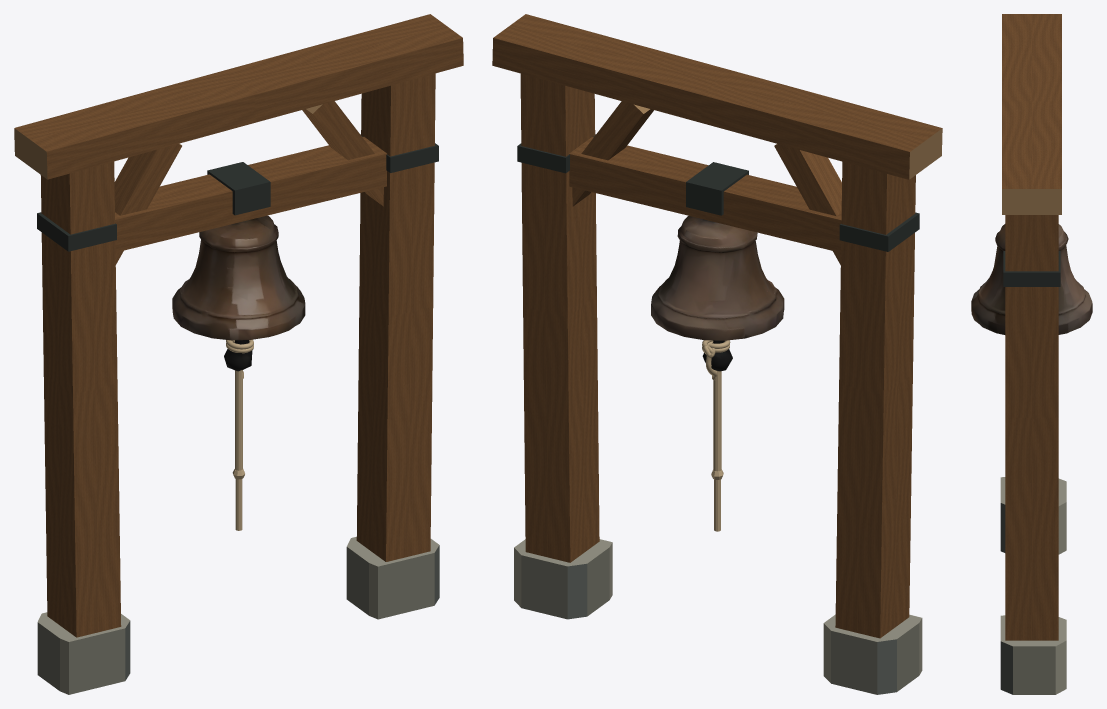
Rendered from signal-bell.glb.
3 views of the same model, side by side, from view 1: azimuth 30°, elevation 25°; view 2: azimuth 150°, elevation 25°; view 3: azimuth 270°, elevation 25° (orthographic). The views are drawn at different scales.
Visible parts, largest first — view 1: Signal bell fixed timber frame, Signal bell bronze bowl clapper and rope, Bell pull rope; view 2: Signal bell fixed timber frame, Signal bell bronze bowl clapper and rope, Bell pull rope; view 3: Signal bell fixed timber frame, Signal bell bronze bowl clapper and rope.
Boxes of the visible parts, x1,y1,x2,y2 form: Signal bell fixed timber frame: [14, 14, 463, 694]; Signal bell bronze bowl clapper and rope: [172, 215, 305, 371]; Bell pull rope: [235, 370, 242, 470]; Signal bell fixed timber frame: [492, 14, 942, 694]; Signal bell bronze bowl clapper and rope: [651, 216, 784, 371]; Bell pull rope: [713, 371, 721, 471]; Signal bell fixed timber frame: [1000, 14, 1066, 694]; Signal bell bronze bowl clapper and rope: [971, 224, 1092, 334].
Bounding box in the file's own units: 1.4 × 1.8 × 0.3856.
10 materials, 4 textured.
